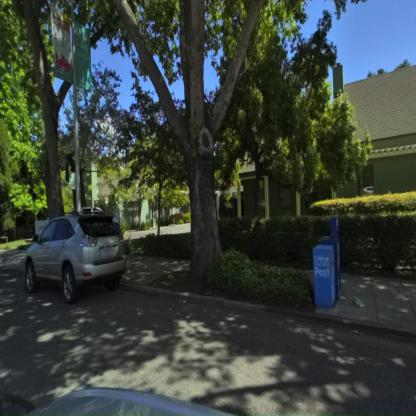car: (24, 212, 130, 304)
